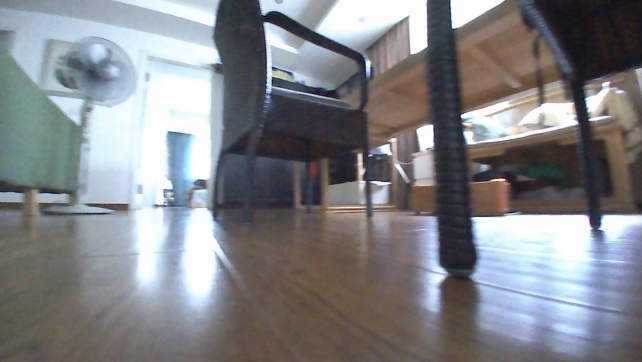chair_base: (41, 200, 115, 214)
dining_table: (209, 0, 641, 283)
sofa1: (0, 37, 83, 218)
